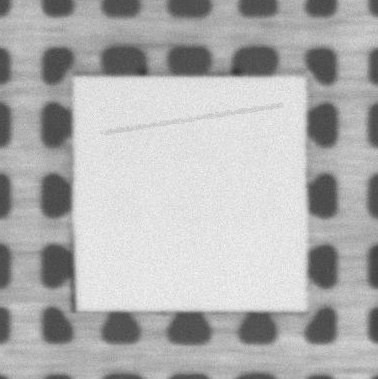DIE_CRACK: (103, 105, 281, 133)
